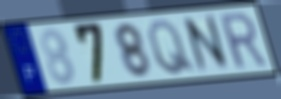7: (71, 22, 107, 87)
8: (112, 21, 154, 79), (39, 26, 78, 88)
N: (180, 11, 233, 76)
Q: (145, 18, 197, 77)
R: (217, 10, 270, 72)
